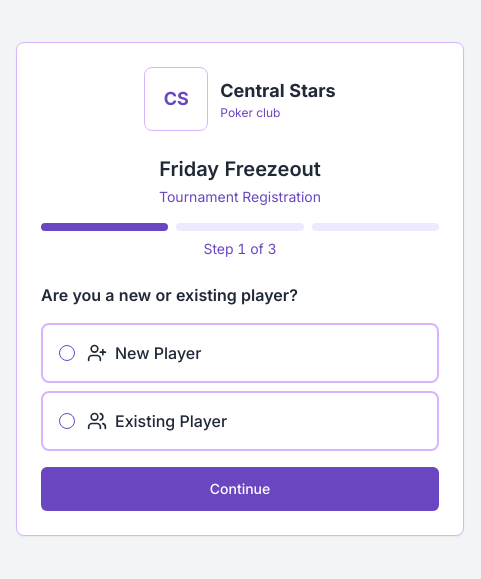
Test case: PublicRegisterPage: where focus goes (MA-P3REV1-03) › moves focus to each new step, and leaves it alone when the page first loads
This screenshot has width=481, height=579.
Click the radio button with test id "player-type-existing" at (67, 421), box [59, 413, 75, 429]
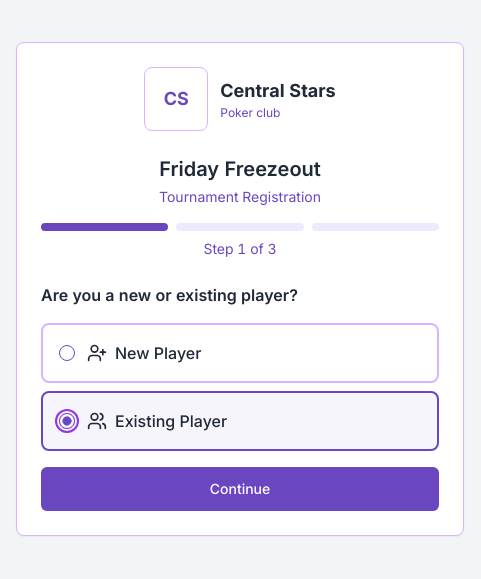
Click the button with test id "step1-next" at (240, 489), box [41, 467, 439, 511]
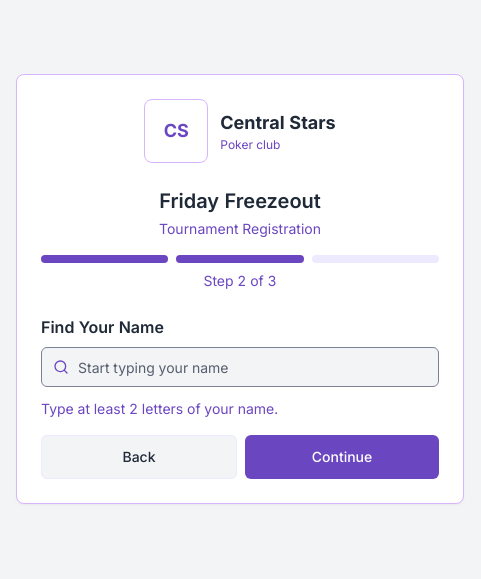
Now the text "Find Your Name" is shown, box [41, 317, 164, 337]
Type "Al" into the search field with test id "player-search" at (240, 367), box [41, 347, 439, 387]
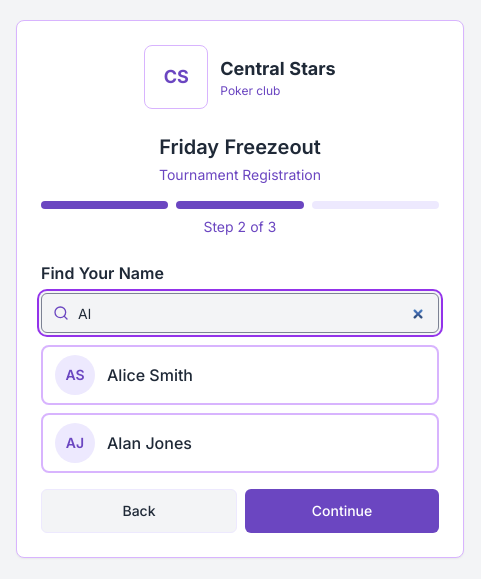
Click the button "Alan Jones" at (75, 443), box [41, 413, 439, 473]
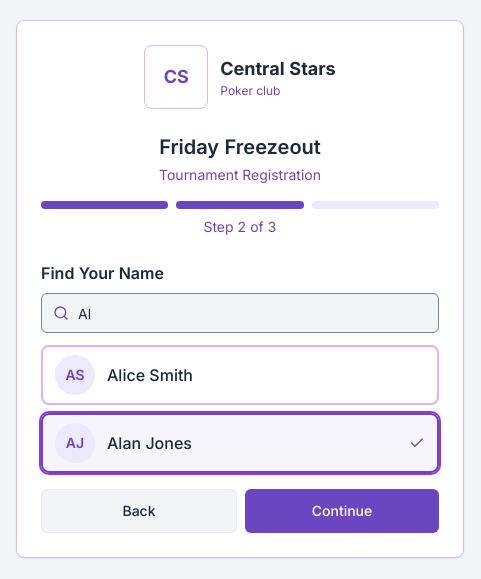
Click the button with test id "step2-next" at (342, 511), box [245, 489, 439, 533]
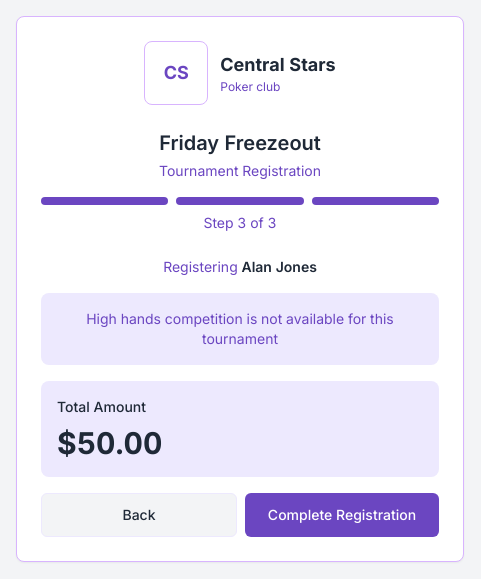
Now the element with test id "registering-as" is shown, box [163, 258, 317, 275]
